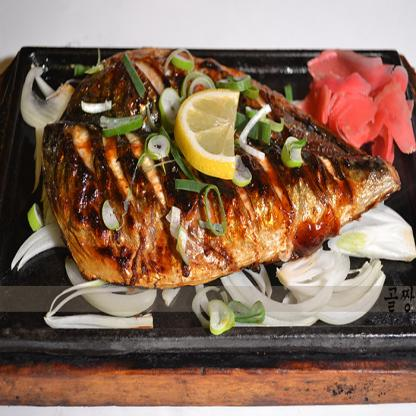Peixe: (42, 39, 388, 292)
